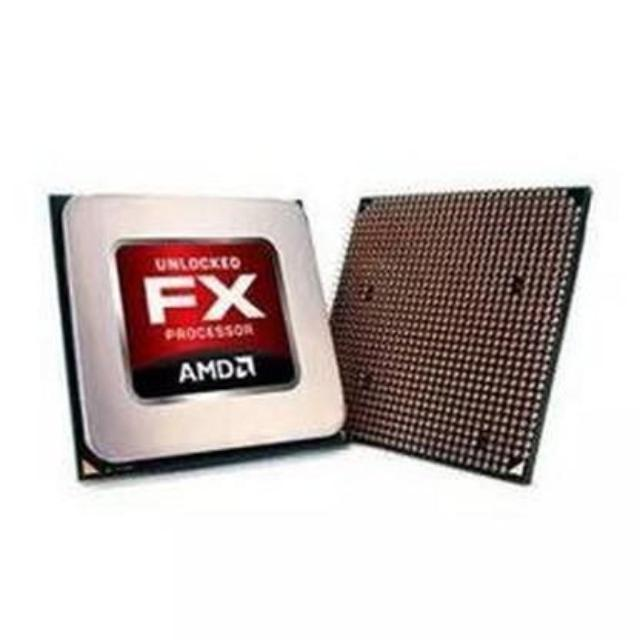CPU: (327, 184, 605, 492), (54, 197, 346, 454)
